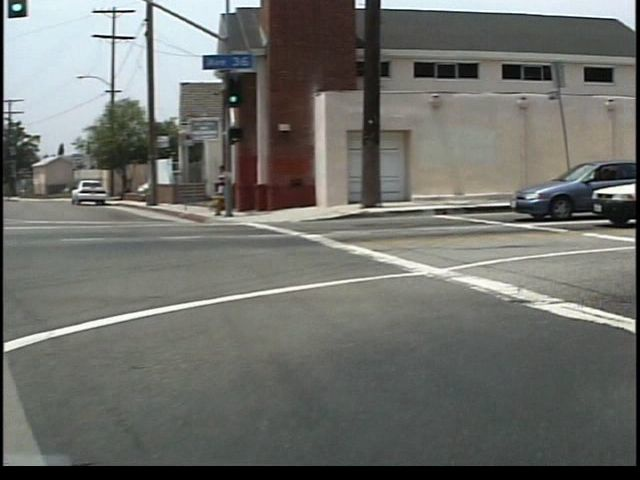person: (223, 165, 242, 215)
